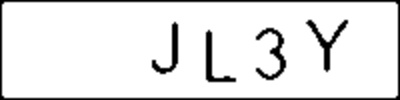3: (253, 22, 289, 83)
J: (148, 19, 185, 77)
L: (199, 24, 244, 84)
Y: (300, 14, 359, 76)
